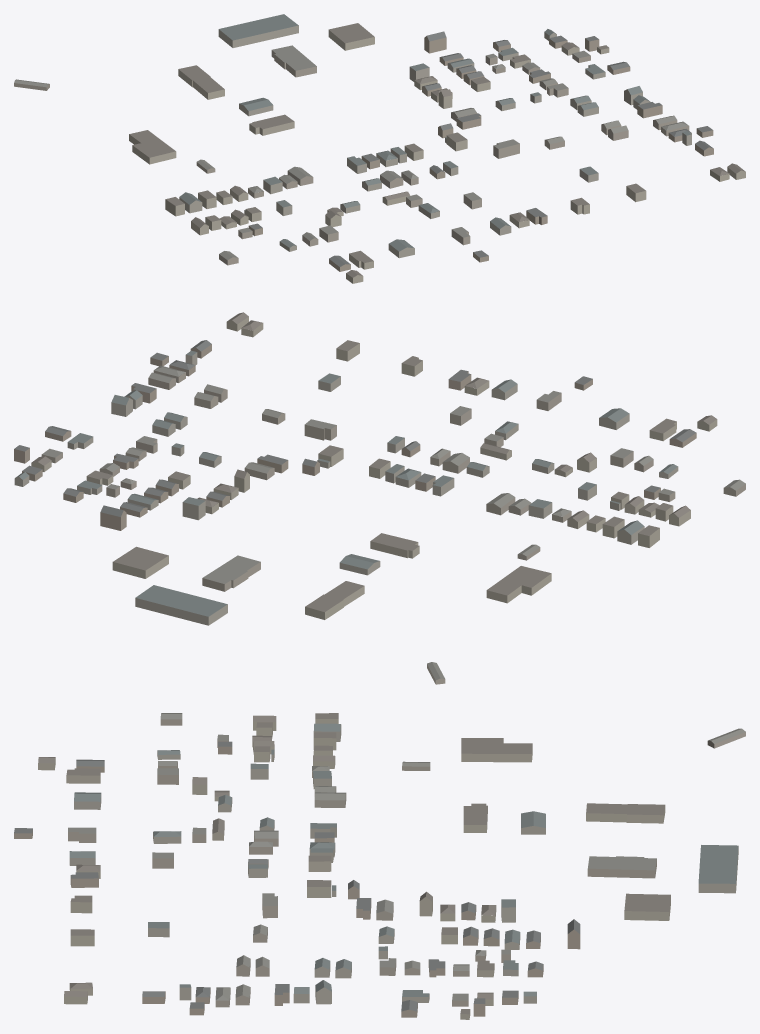
The model's file is da4ec681fca2-chunk-1196_11840.glb.
The picture shows the model from 3 angles, top to bottom: view 1: azimuth 30°, elevation 25°; view 2: azimuth 150°, elevation 25°; view 3: azimuth 270°, elevation 25°; orthographic projection. The views are drawn at different scales.
Visible parts, largest first — view 1: building_76714, building_24693, building_105119, building_145002, building_36649, building_17522, building_157579; view 2: building_76714, building_24693, building_105119, building_36649, building_145002, building_17522, building_157579; view 3: building_76714, building_24693, building_36649, building_105119, building_145002, building_17522, building_157579, building_169700, building_120176.
Part boxes in pixels (x1,y1,x2,y2): building_76714: (218,14,298,47); building_24693: (129,130,176,164); building_105119: (271,45,316,77); building_145002: (328,23,374,50); building_36649: (178,65,224,99); building_17522: (249,114,294,135); building_157579: (239,97,273,116); building_76714: (135,585,227,625); building_24693: (486,566,551,603); building_105119: (202,555,260,591); building_36649: (305,581,364,619); building_145002: (112,546,168,578); building_17522: (370,533,419,558); building_157579: (339,554,380,575); building_76714: (698,845,738,893); building_24693: (461,738,532,762); building_36649: (586,803,665,823); building_105119: (587,856,656,878); building_145002: (624,893,670,920); building_17522: (463,803,487,832); building_157579: (521,811,545,834); building_169700: (66,768,100,783); building_120176: (314,792,346,807).
Bounding box in the file's own units: 384 × 11.73 × 396.
